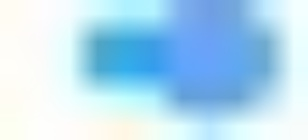Switch: (1, 1, 307, 139)
